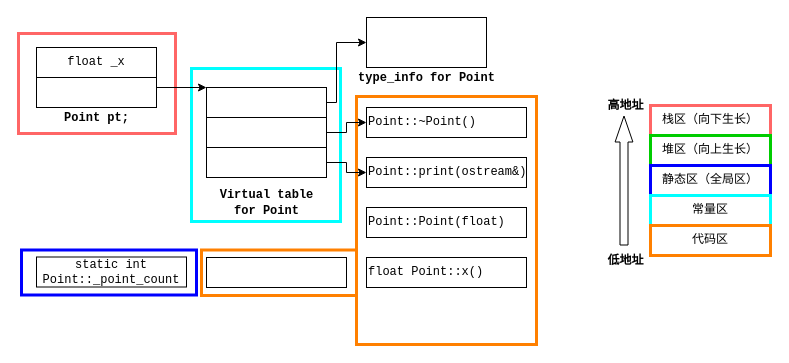
The diagram is 789 pixels wide and 363 high, and some of its shapes have lost their labels. Here are the shapes that lost their labels. From the top down, the box of each, then its label:
(36, 76, 156, 108): _vptr__Point
(206, 256, 346, 288): static int Point::PointCount()
